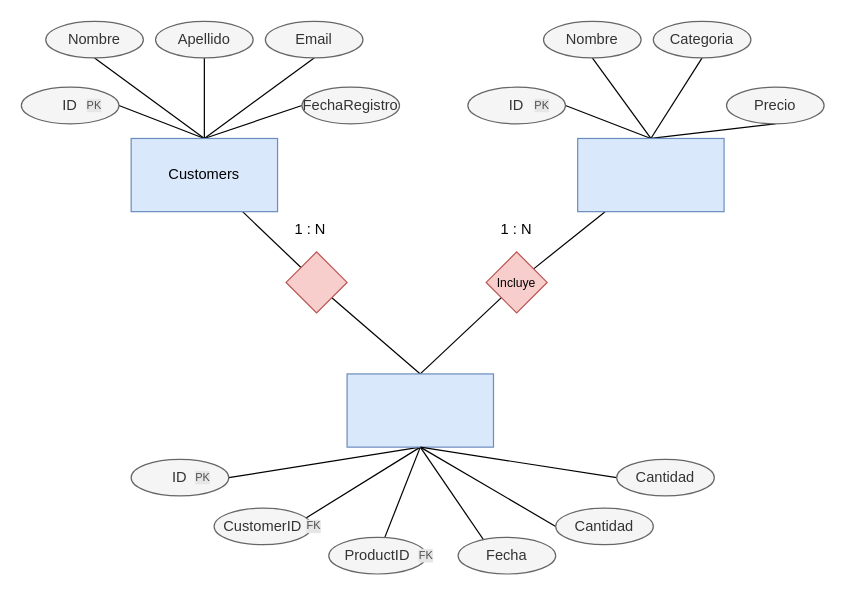
Image size: 845x597. Some labels were removed from this diagram. The centre of each missing label's shape, as x and y in pixels:
"Products" goes at (650,174).
"Realiza" goes at (316,282).
"Sales" goes at (419,410).
